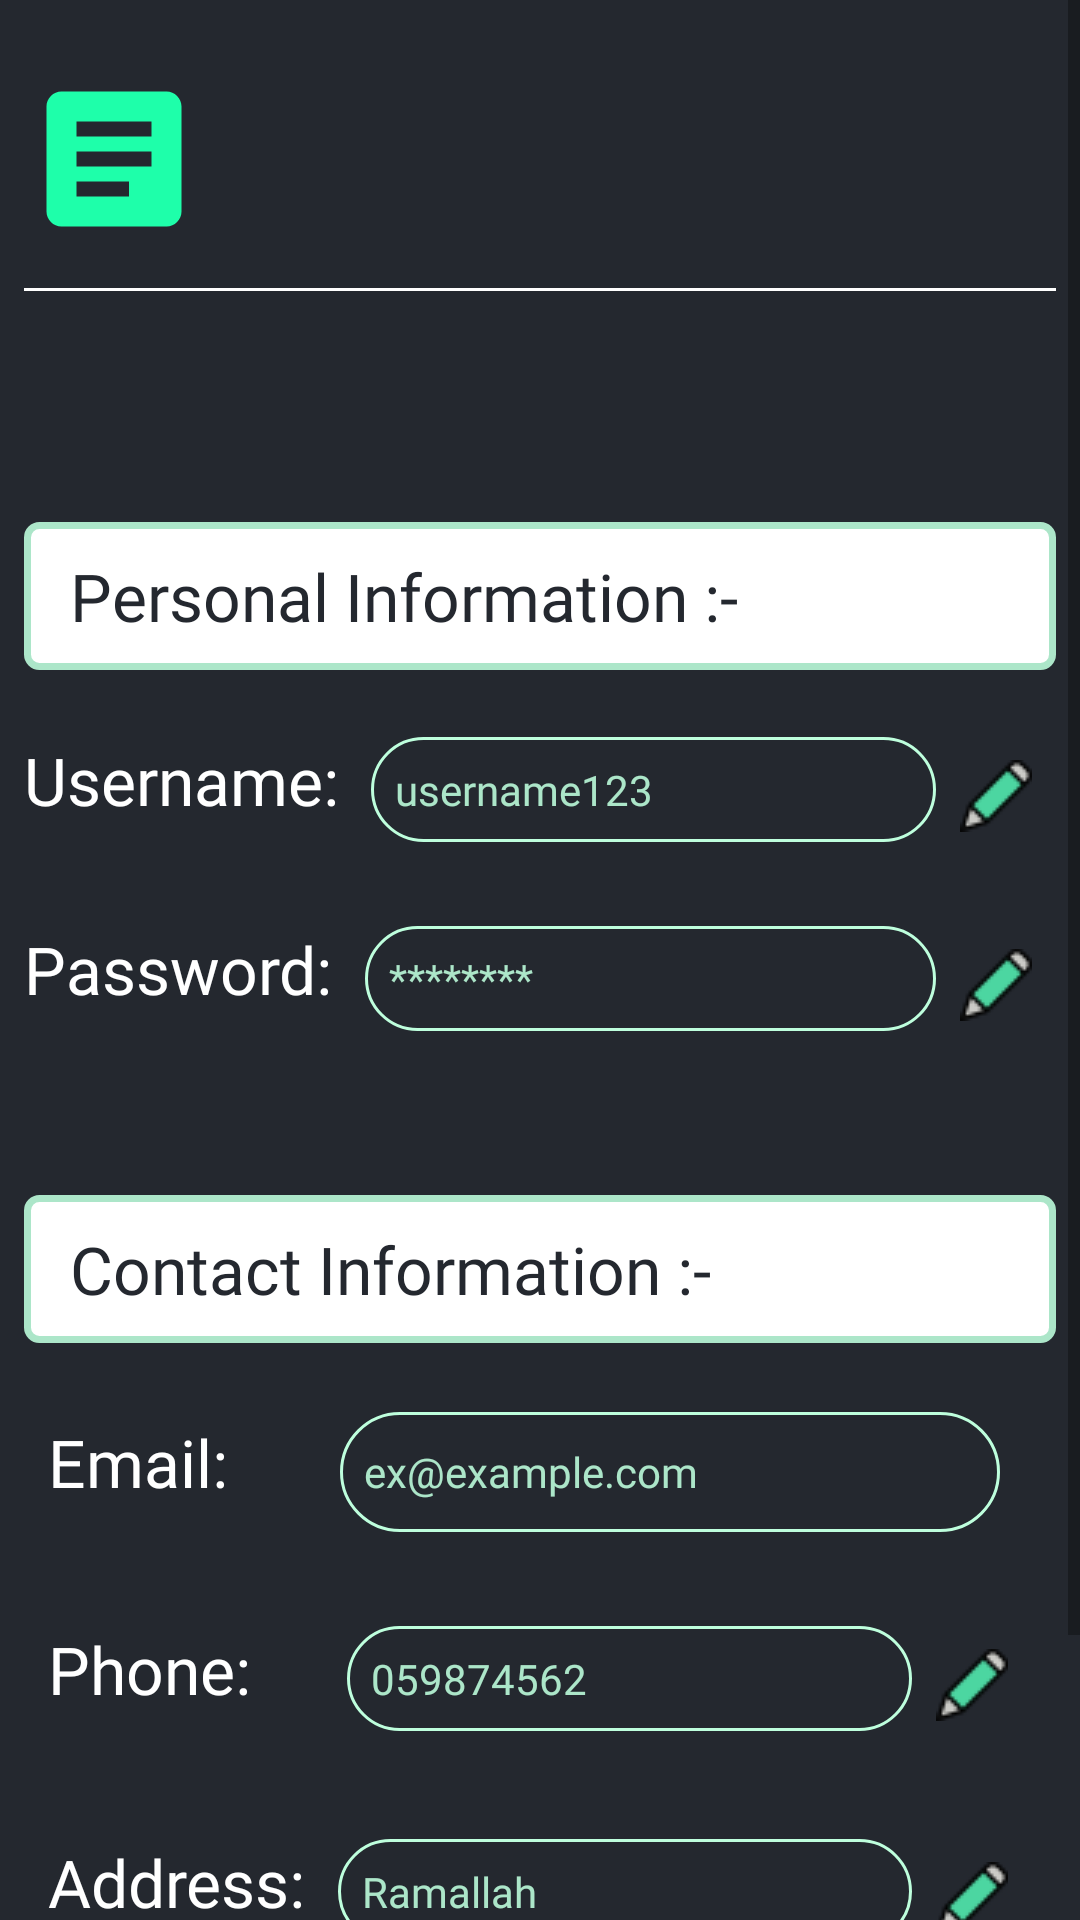

Icons on this 1080 x 1920 Android screen, each with its box as (x1, y1, x2, y2):
article: (46, 91, 182, 227)
